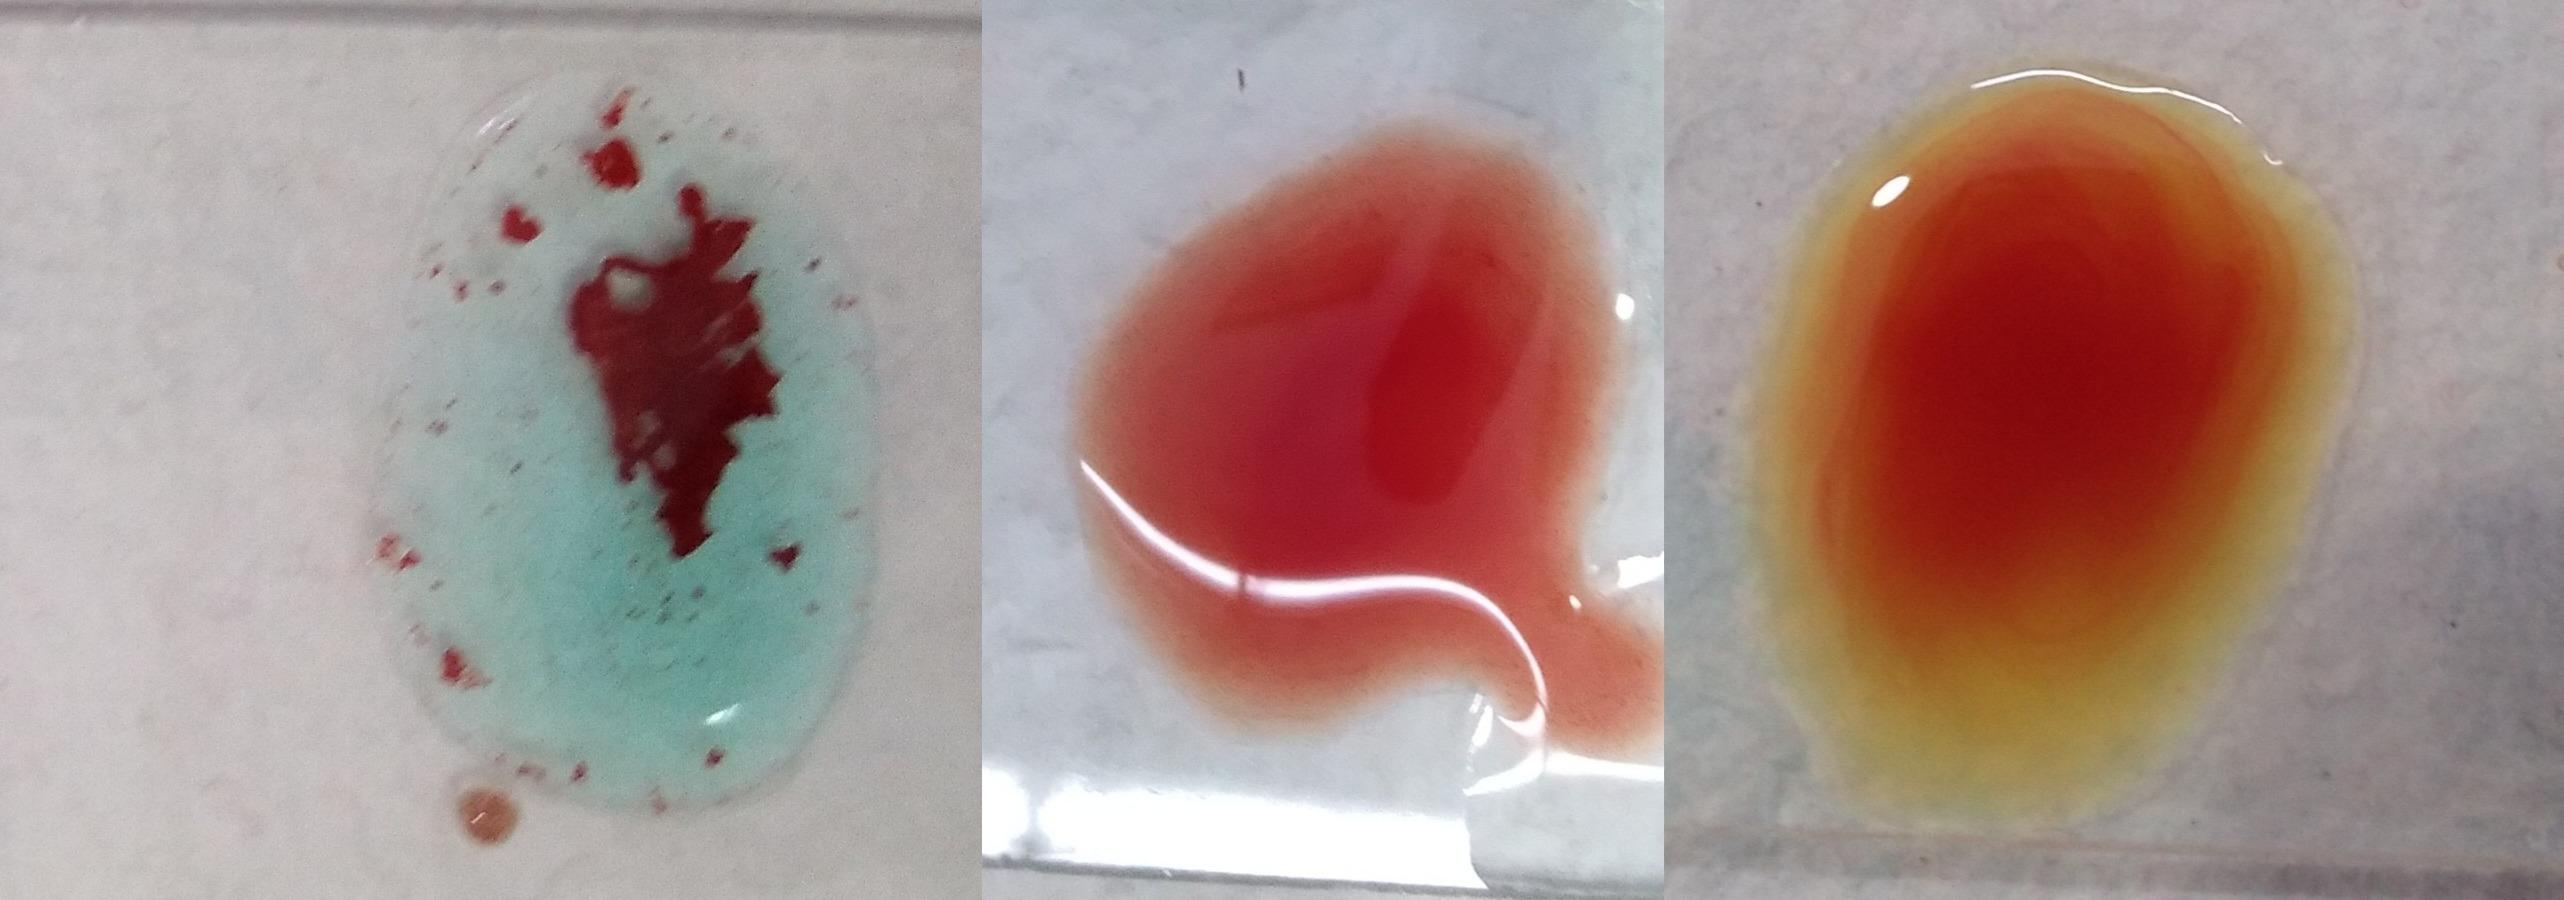A: (406, 93, 872, 823)
